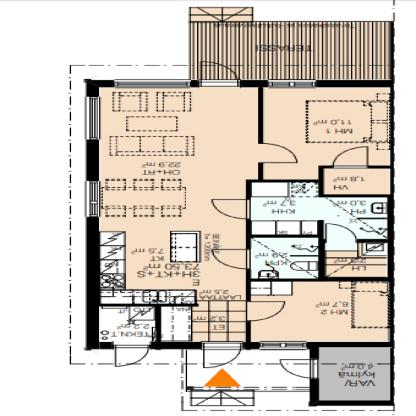door: (256, 143, 300, 166), (278, 358, 324, 380), (108, 342, 150, 366), (210, 247, 253, 270), (330, 146, 368, 172), (200, 63, 239, 87), (204, 200, 255, 218), (204, 342, 242, 366), (245, 302, 287, 322), (326, 223, 358, 243)
window: (86, 97, 102, 141), (84, 182, 103, 219), (116, 79, 191, 87), (270, 80, 316, 90), (258, 342, 306, 351)
zone: (97, 87, 249, 302), (251, 183, 393, 279), (192, 19, 389, 81), (263, 88, 388, 180), (250, 282, 388, 341), (194, 349, 311, 389), (162, 302, 245, 345), (321, 349, 388, 400), (252, 237, 317, 279), (100, 304, 159, 342), (324, 170, 392, 194)
